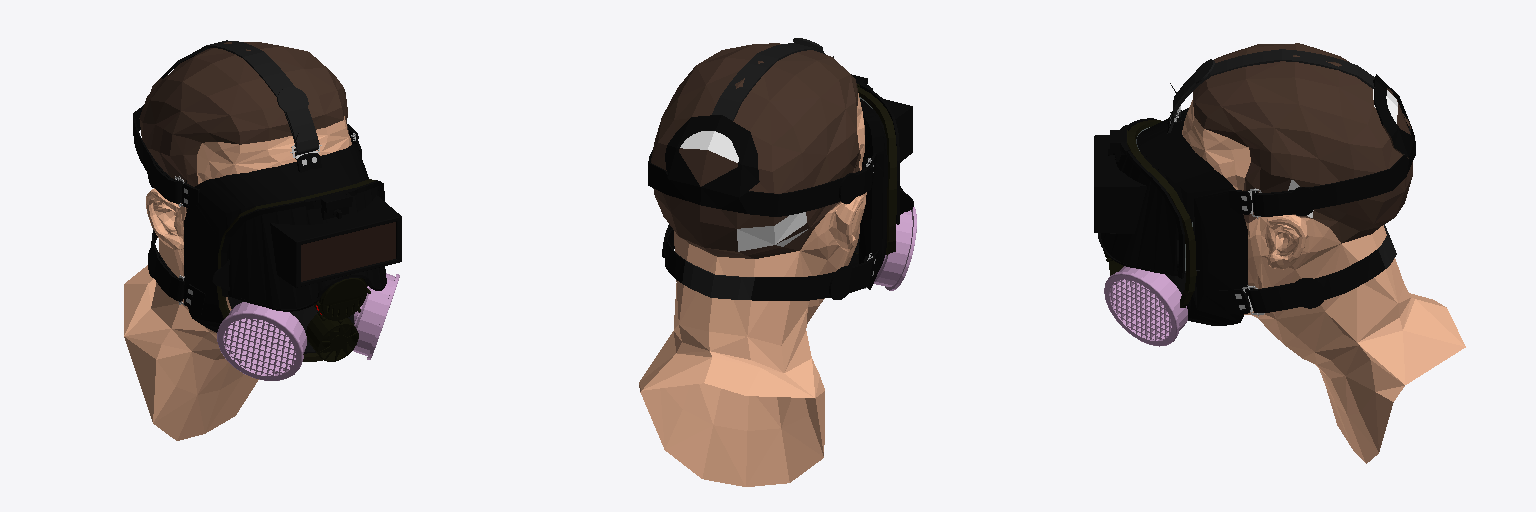
File: Respirator.obj
3 views of the same model, side by side, from view 1: azimuth 30°, elevation 25°; view 2: azimuth 150°, elevation 25°; view 3: azimuth 270°, elevation 25° (orthographic).
Parts seen in each view (by area): view 1: Mesh1 Group2 Group1 Model, Mesh88 Group86 Group85 Model, Mesh2 Group5 Group4 Group3 Group1 Model, Mesh28 Group23 Group21 Group3 Group1 Model, Mesh77 Group82 Group81 Group3 Group1 Model, Mesh78 Group81 Group3 Group1 Model, Mesh84 Group83 Group3 Group1 Model, Mesh13 Group8 Group7 Group4 Group3 Group1 Model, Mesh14 Group8 Group7 Group4 Group3 Group1 Model, Mesh61 Group_12_2 Group21 Group3 Group1 Model, Mesh3 Group6 Group4 Group3 Group1 Model, Mesh72 Group_20_2 Group21 Group3 Group1 Model (+1 smaller); view 2: Mesh1 Group2 Group1 Model, Mesh19 Group22 Group21 Group3 Group1 Model, Mesh72 Group_20_2 Group21 Group3 Group1 Model, Mesh2 Group5 Group4 Group3 Group1 Model, Mesh61 Group_12_2 Group21 Group3 Group1 Model, Mesh28 Group23 Group21 Group3 Group1 Model, Mesh78 Group81 Group3 Group1 Model, Mesh3 Group6 Group4 Group3 Group1 Model, Mesh88 Group86 Group85 Model, Mesh39 Group_20_1 Group21 Group3 Group1 Model, Mesh50 Group_12_1 Group21 Group3 Group1 Model, Mesh70 Group79 Group78 Group_20_2 Group21 Group3 Group1 Model; view 3: Mesh1 Group2 Group1 Model, Mesh2 Group5 Group4 Group3 Group1 Model, Mesh88 Group86 Group85 Model, Mesh50 Group_12_1 Group21 Group3 Group1 Model, Mesh39 Group_20_1 Group21 Group3 Group1 Model, Mesh28 Group23 Group21 Group3 Group1 Model, Mesh83 Group84 Group83 Group3 Group1 Model, Mesh84 Group83 Group3 Group1 Model, Mesh3 Group6 Group4 Group3 Group1 Model, Mesh19 Group22 Group21 Group3 Group1 Model, Mesh37 Group43 Group42 Group_20_1 Group21 Group3 Group1 Model, Mesh30 Group33 Group_20_1 Group21 Group3 Group1 Model (+1 smaller).
Part boxes in pixels (bbox=[...]): Mesh1 Group2 Group1 Model: bbox=[124, 42, 351, 440]; Mesh88 Group86 Group85 Model: bbox=[221, 180, 401, 308]; Mesh2 Group5 Group4 Group3 Group1 Model: bbox=[184, 144, 368, 353]; Mesh28 Group23 Group21 Group3 Group1 Model: bbox=[197, 40, 319, 153]; Mesh77 Group82 Group81 Group3 Group1 Model: bbox=[224, 318, 295, 375]; Mesh78 Group81 Group3 Group1 Model: bbox=[217, 302, 306, 380]; Mesh84 Group83 Group3 Group1 Model: bbox=[353, 273, 399, 359]; Mesh13 Group8 Group7 Group4 Group3 Group1 Model: bbox=[306, 314, 358, 361]; Mesh14 Group8 Group7 Group4 Group3 Group1 Model: bbox=[314, 278, 366, 320]; Mesh61 Group_12_2 Group21 Group3 Group1 Model: bbox=[133, 105, 182, 203]; Mesh3 Group6 Group4 Group3 Group1 Model: bbox=[217, 179, 375, 361]; Mesh72 Group_20_2 Group21 Group3 Group1 Model: bbox=[151, 230, 184, 301]; Mesh1 Group2 Group1 Model: bbox=[639, 43, 866, 486]; Mesh19 Group22 Group21 Group3 Group1 Model: bbox=[665, 115, 759, 208]; Mesh72 Group_20_2 Group21 Group3 Group1 Model: bbox=[711, 257, 874, 300]; Mesh2 Group5 Group4 Group3 Group1 Model: bbox=[848, 99, 887, 289]; Mesh61 Group_12_2 Group21 Group3 Group1 Model: bbox=[720, 162, 873, 216]; Mesh28 Group23 Group21 Group3 Group1 Model: bbox=[712, 38, 833, 120]; Mesh78 Group81 Group3 Group1 Model: bbox=[874, 207, 916, 290]; Mesh3 Group6 Group4 Group3 Group1 Model: bbox=[854, 86, 896, 255]; Mesh88 Group86 Group85 Model: bbox=[860, 82, 912, 224]; Mesh39 Group_20_1 Group21 Group3 Group1 Model: bbox=[665, 228, 714, 297]; Mesh50 Group_12_1 Group21 Group3 Group1 Model: bbox=[648, 150, 686, 200]; Mesh70 Group79 Group78 Group_20_2 Group21 Group3 Group1 Model: bbox=[829, 266, 851, 299]; Mesh1 Group2 Group1 Model: bbox=[1182, 43, 1465, 463]; Mesh2 Group5 Group4 Group3 Group1 Model: bbox=[1136, 108, 1247, 325]; Mesh88 Group86 Group85 Model: bbox=[1094, 118, 1184, 278]; Mesh50 Group_12_1 Group21 Group3 Group1 Model: bbox=[1253, 154, 1411, 216]; Mesh39 Group_20_1 Group21 Group3 Group1 Model: bbox=[1247, 234, 1396, 312]; Mesh28 Group23 Group21 Group3 Group1 Model: bbox=[1170, 49, 1374, 117]; Mesh83 Group84 Group83 Group3 Group1 Model: bbox=[1110, 279, 1171, 340]; Mesh84 Group83 Group3 Group1 Model: bbox=[1104, 266, 1187, 346]; Mesh3 Group6 Group4 Group3 Group1 Model: bbox=[1127, 120, 1196, 307]; Mesh19 Group22 Group21 Group3 Group1 Model: bbox=[1373, 74, 1415, 161]; Mesh37 Group43 Group42 Group_20_1 Group21 Group3 Group1 Model: bbox=[1294, 278, 1324, 308]; Mesh30 Group33 Group_20_1 Group21 Group3 Group1 Model: bbox=[1219, 289, 1253, 313].
Bounding box in the file's own units: 7.55 × 14.77 × 12.39.